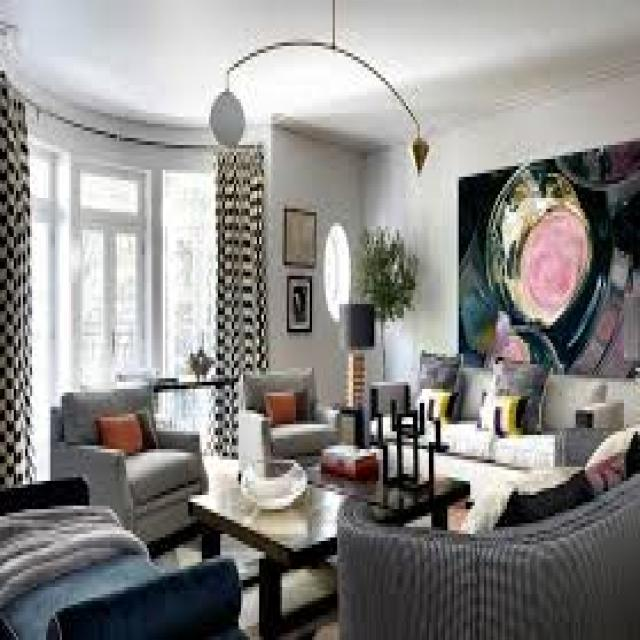Chair: (56, 388, 206, 549), (239, 366, 353, 494)
Lamp: (207, 0, 435, 174), (338, 299, 370, 412)
Sofa: (0, 481, 237, 640), (376, 356, 626, 494)
Table: (184, 472, 472, 638)
